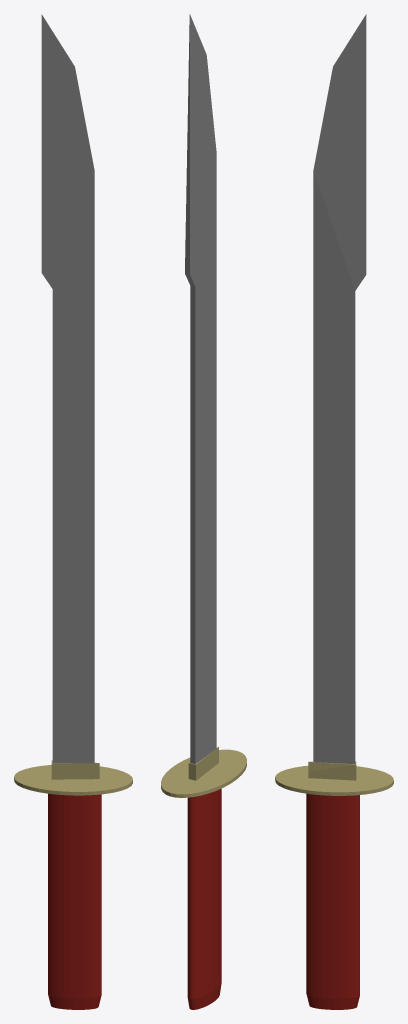
The model's file is sword.dae.
3 views of the same model, side by side, from view 1: azimuth 90°, elevation 25°; view 2: azimuth 150°, elevation 25°; view 3: azimuth 270°, elevation 25° (orthographic).
Visible parts, largest first — view 1: Cube, Cylinder, Sword; view 2: Cube, Cylinder, Sword; view 3: Cube, Cylinder, Sword.
Part boxes in pixels (x1,y1,x2,y2): Cube: (41,14,94,763); Cylinder: (48,793,101,1009); Sword: (14,760,132,795); Cube: (185,14,216,763); Cylinder: (187,788,221,1009); Sword: (161,747,246,797); Cube: (313,14,366,763); Cylinder: (306,793,359,1009); Sword: (275,761,393,795).
Bounding box in the file's own units: 0.0829 × 0.1504 × 1.39.
